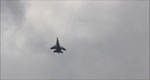maybay_muctieu: (51, 35, 67, 54)
